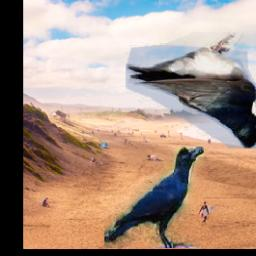Crow: (103, 147, 203, 248)
Swallow: (126, 33, 256, 149)
